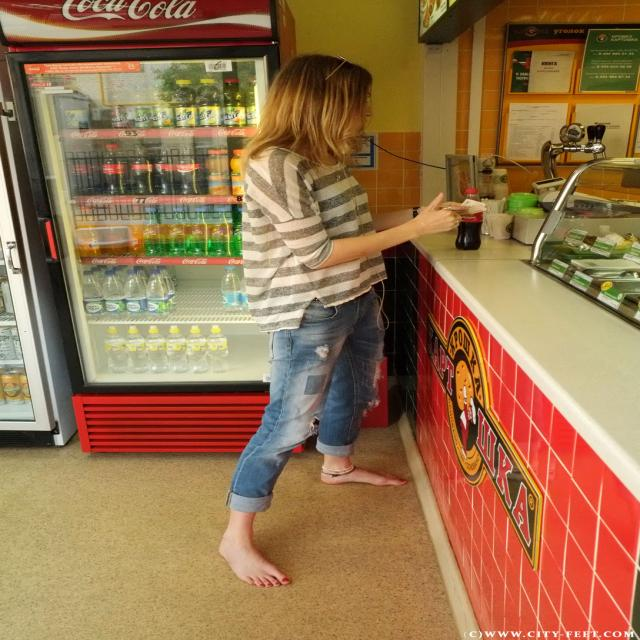No Safety Boots: (219, 537, 291, 587), (321, 466, 407, 486)
